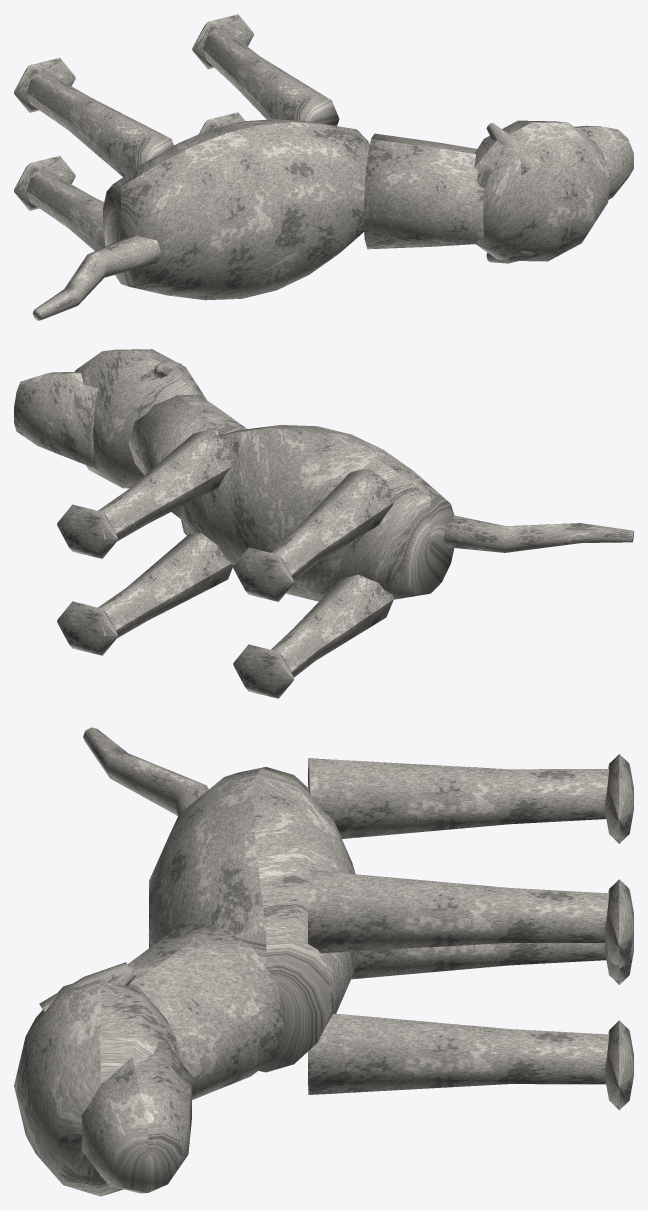
File: dog.obj
3 renders of one model, top to bottom at view 1: azimuth 30°, elevation 25°; view 2: azimuth 150°, elevation 25°; view 3: azimuth 270°, elevation 25°, orthographic. The views are drawn at different scales.
Parts seen in each view (by area): view 1: dog; view 2: dog; view 3: dog.
Boxes of the visible parts, x1,y1,x2,y2 form: dog: [14, 14, 633, 320]; dog: [14, 349, 633, 698]; dog: [14, 727, 633, 1196].
Size of the model in its own units: 1.01 by 0.2575 by 0.6211.
1 material, 1 textured.
